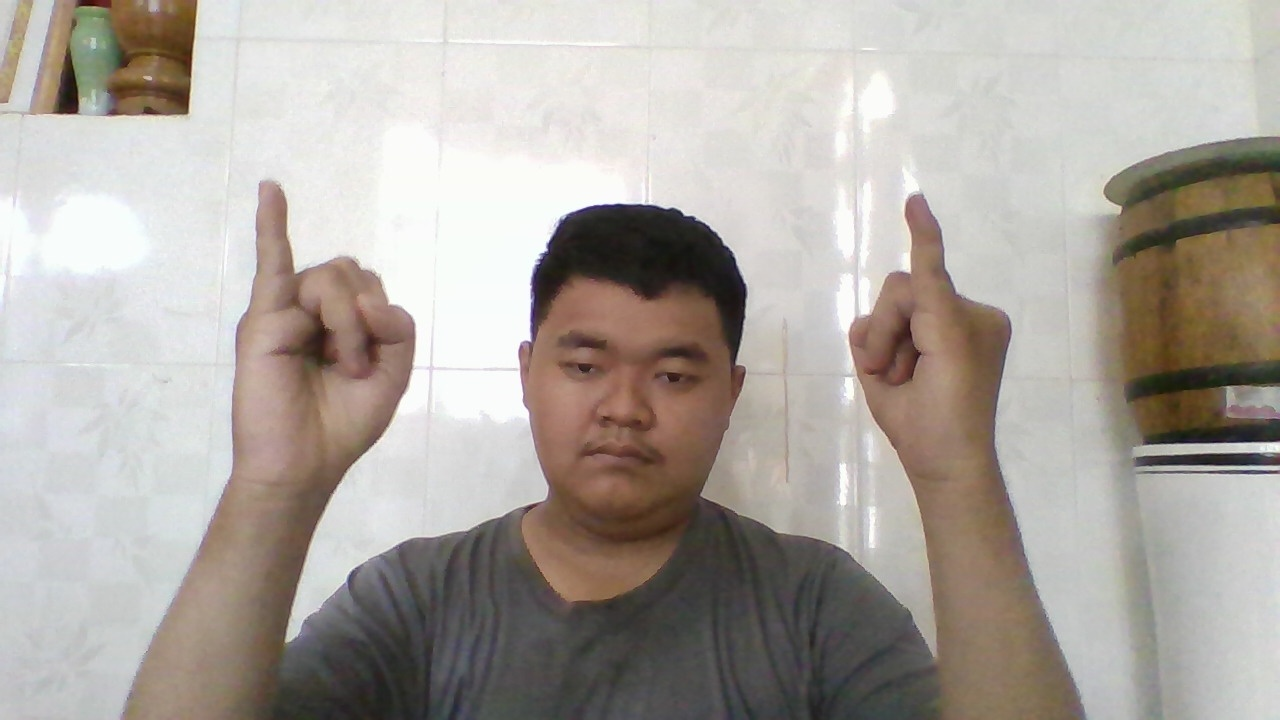I: (250, 174, 425, 487), (848, 190, 1002, 479)
